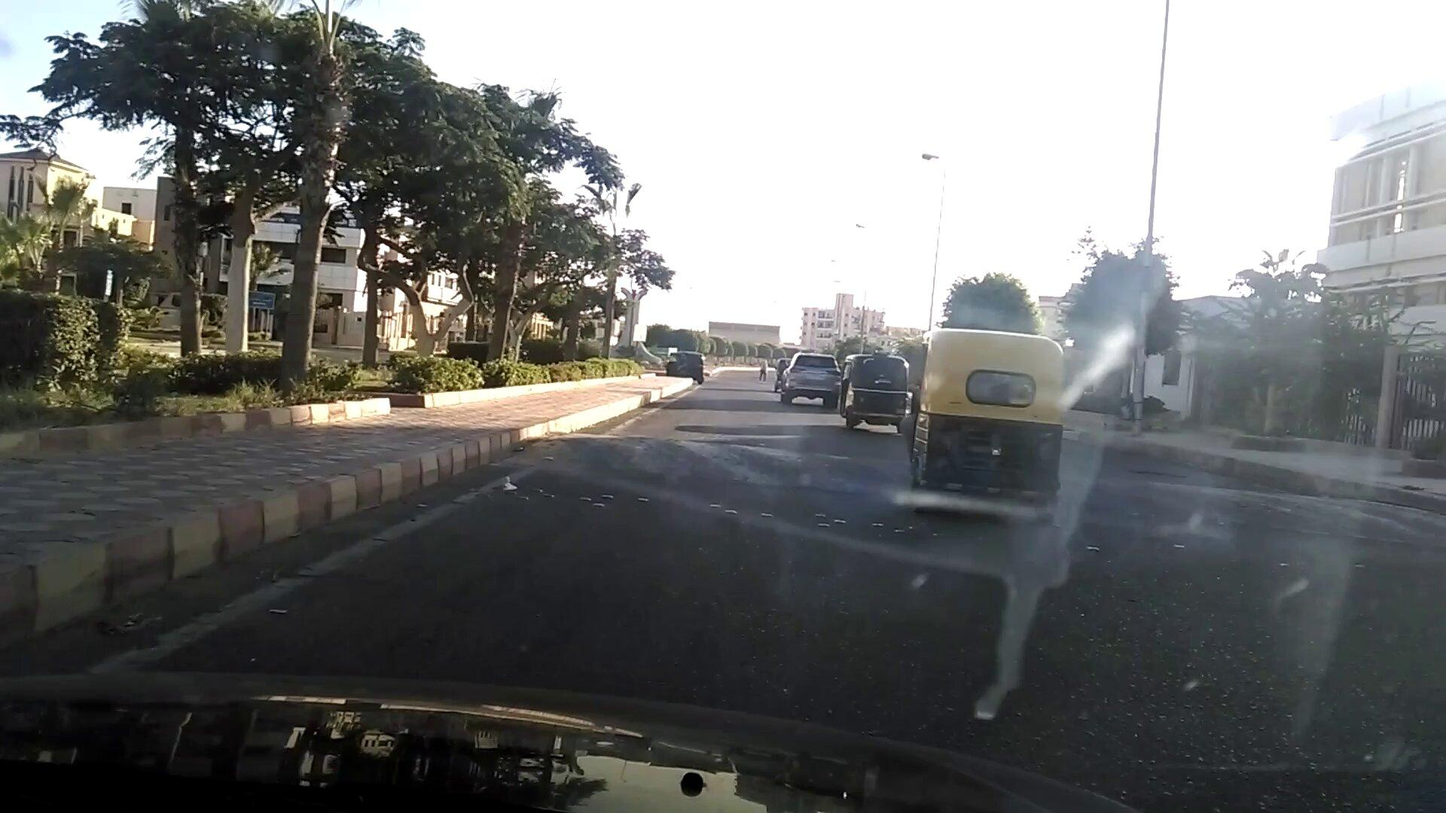Bump: (1056, 476, 1446, 542), (548, 431, 891, 499)
